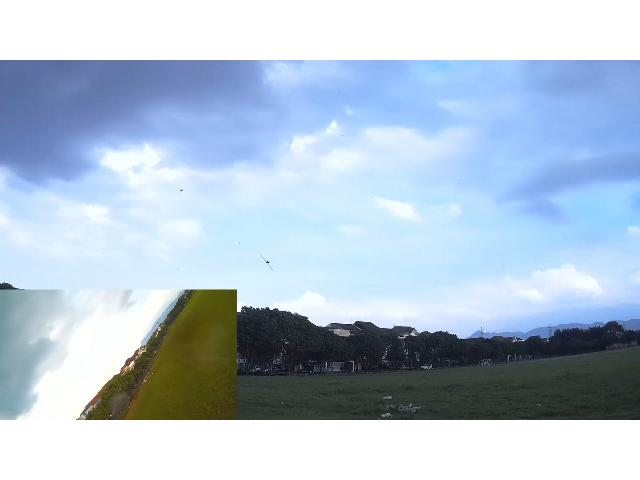Anti-Drone: (260, 254, 274, 270)
